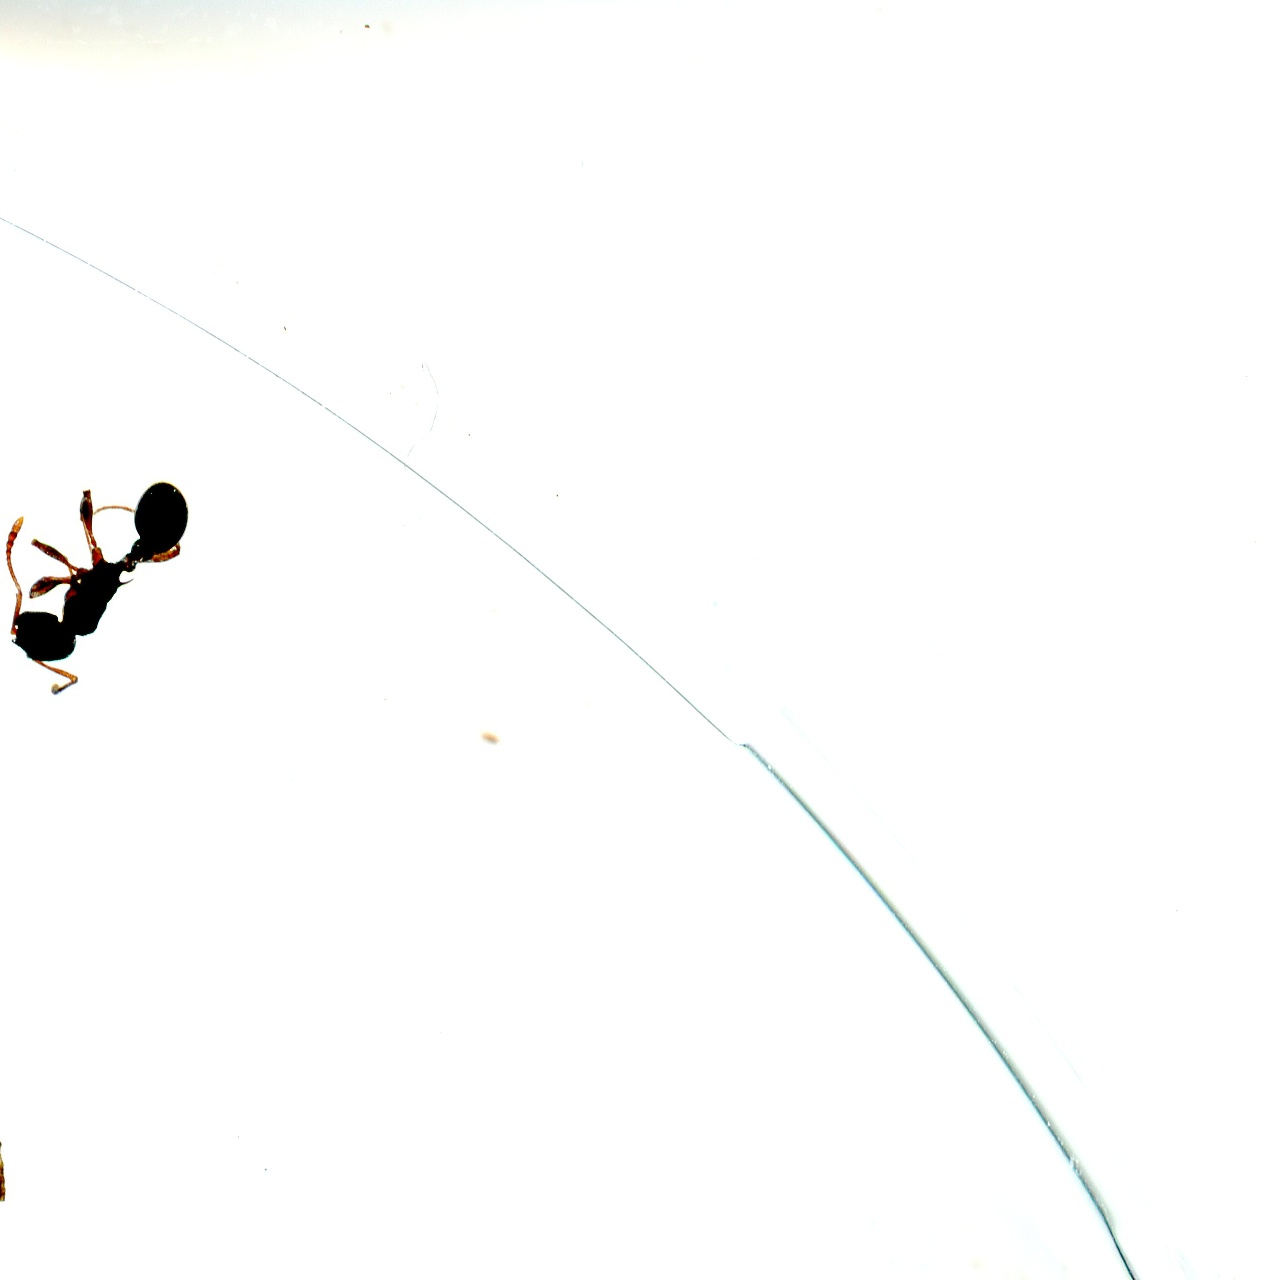arthropod: (0, 464, 214, 713), (366, 1264, 495, 1280)
